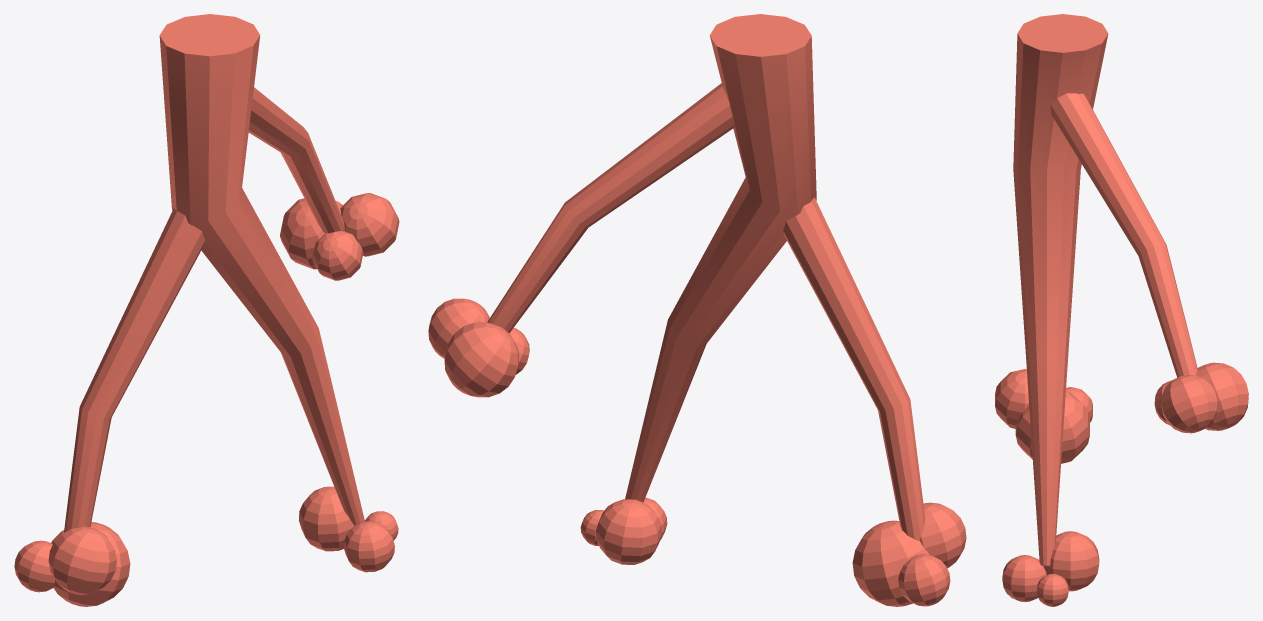
Rendered from alveoli.fbx.
3 views of the same model, side by side, from view 1: azimuth 30°, elevation 25°; view 2: azimuth 150°, elevation 25°; view 3: azimuth 270°, elevation 25° (orthographic). The views are drawn at different scales.
Parts seen in each view (by area): view 1: alveoli1; view 2: alveoli1; view 3: alveoli1.
Boxes of the visible parts, x1=… form: alveoli1: x1=14, y1=14, x2=399, y2=606; alveoli1: x1=428, y1=14, x2=966, y2=606; alveoli1: x1=995, y1=14, x2=1248, y2=606.
Bounding box in the file's own units: 31.41 × 37.57 × 17.12.
